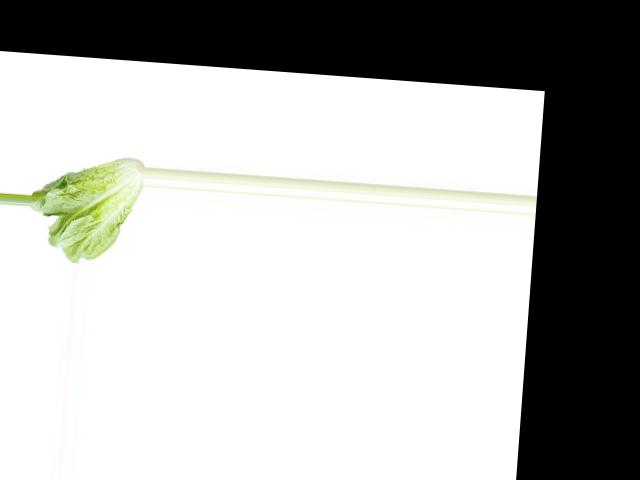lettuce: (28, 150, 144, 268)
